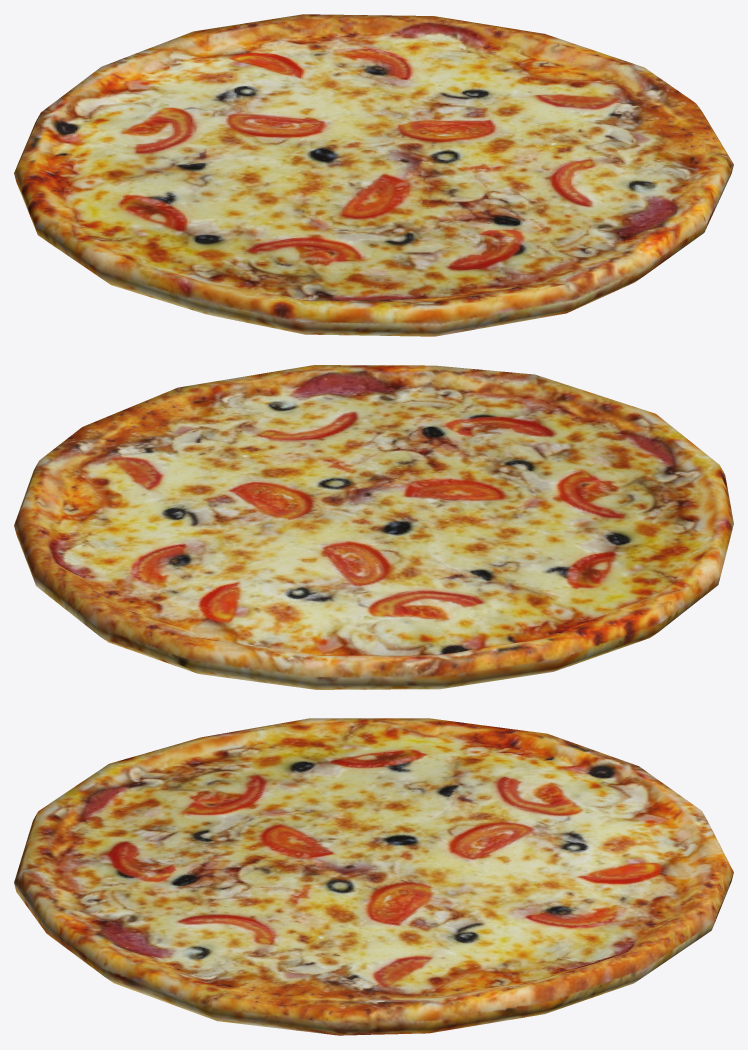
Rendered from Tp Pizza.glb.
3 views of the same model, one above another, from view 1: azimuth 30°, elevation 25°; view 2: azimuth 150°, elevation 25°; view 3: azimuth 270°, elevation 25° (orthographic). The views are drawn at different scales.
Visible parts, largest first — view 1: pizza_1; view 2: pizza_1; view 3: pizza_1.
Boxes of the visible parts, box(x1,y1,x2,y2) form: pizza_1: box(14, 14, 733, 336); pizza_1: box(14, 365, 733, 689); pizza_1: box(14, 718, 733, 1035).
Size of the model in its own units: 953 by 51.22 by 968.
1 material, 1 textured.
